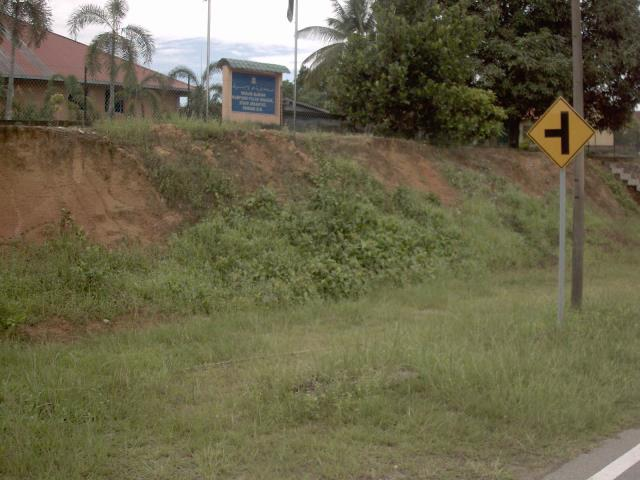traffic_sign: (522, 89, 599, 175)
